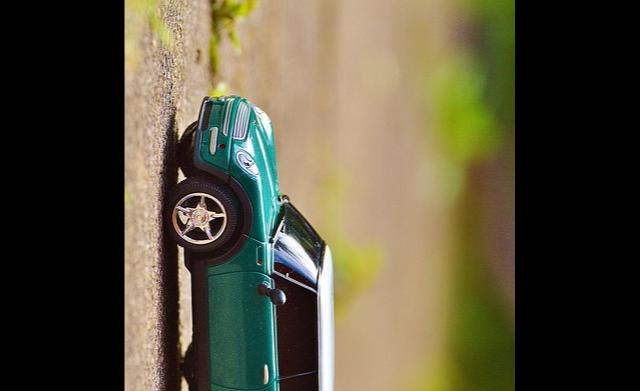Non_Gorille: (148, 77, 427, 391)
